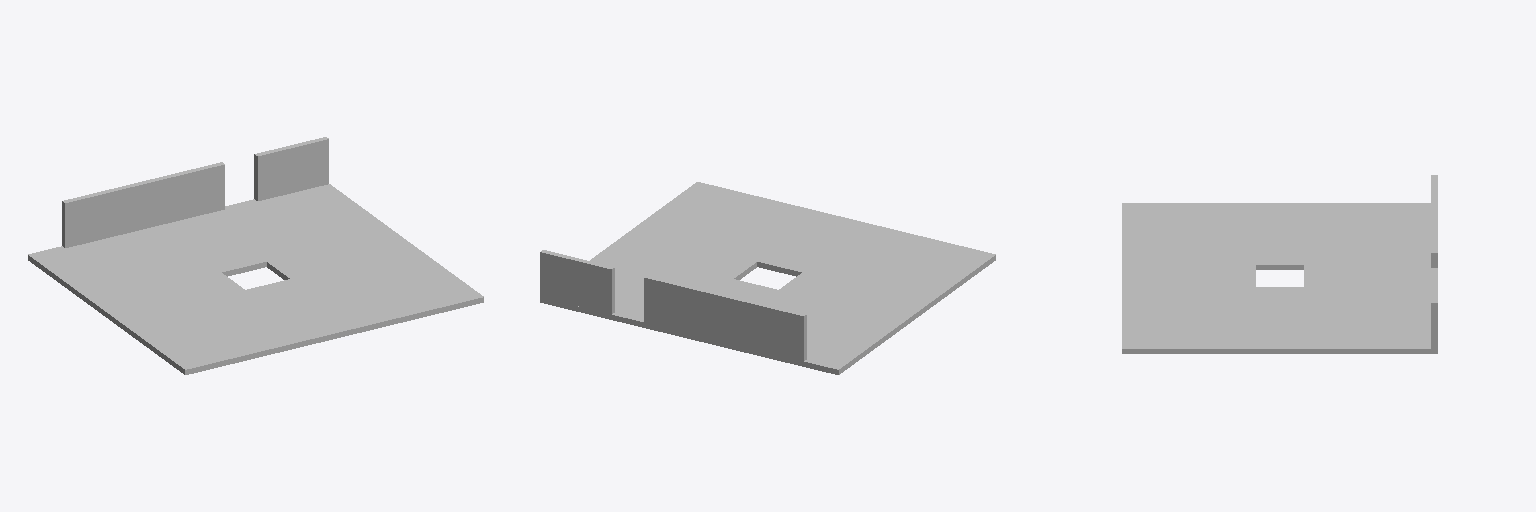
The model's file is Platform.obj.
3 views of the same model, side by side, from view 1: azimuth 30°, elevation 25°; view 2: azimuth 150°, elevation 25°; view 3: azimuth 270°, elevation 25° (orthographic).
Parts seen in each view (by area): view 1: pCube5; view 2: pCube5; view 3: pCube5.
Part boxes in pixels (x1,y1,x2,y2): pCube5: (28, 137, 483, 374); pCube5: (540, 182, 995, 374); pCube5: (1122, 175, 1437, 353).
Size of the model in its own units: 33.36 by 5.39 by 30.49.